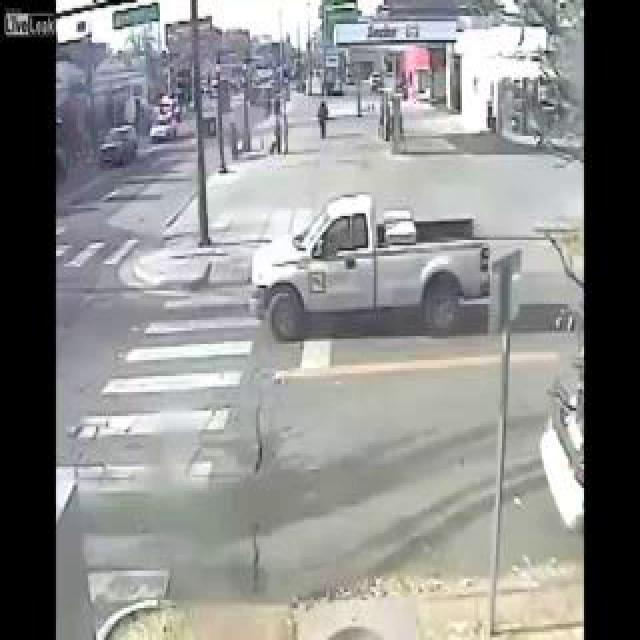road accidents: (124, 84, 437, 450)
